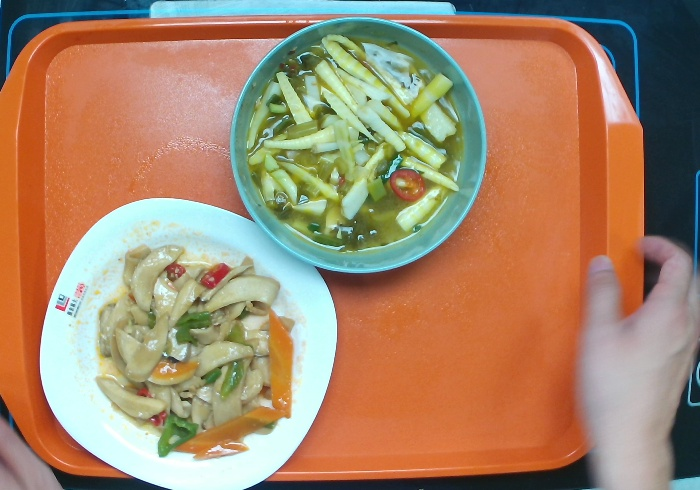ZNLD-Qing_Hua_Yuan_Wan: (229, 14, 494, 282)
ZNLD-Yuan_Jiao_Pan: (36, 188, 339, 489)
